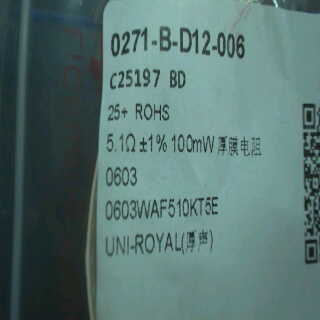5.1R: (104, 126, 140, 157)
